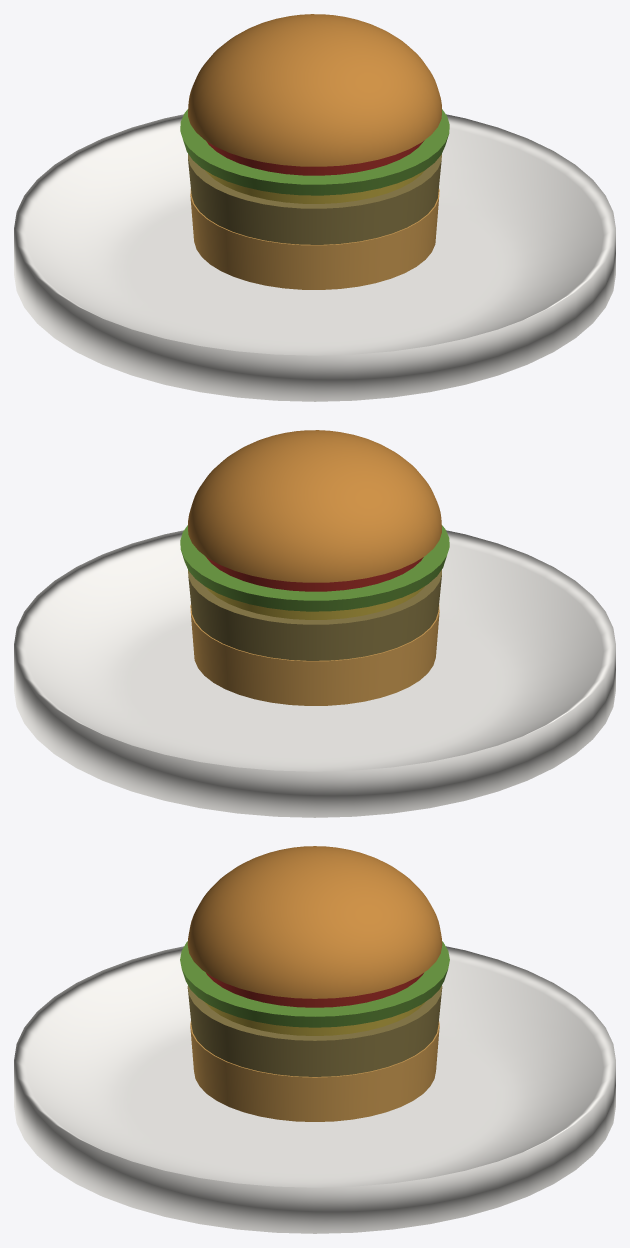
Rendered from burger-4-card.glb.
3 views of the same model, one above another, from view 1: azimuth 30°, elevation 25°; view 2: azimuth 150°, elevation 25°; view 3: azimuth 270°, elevation 25° (orthographic).
Size of the model in its own units: 0.26 by 0.1166 by 0.26.
